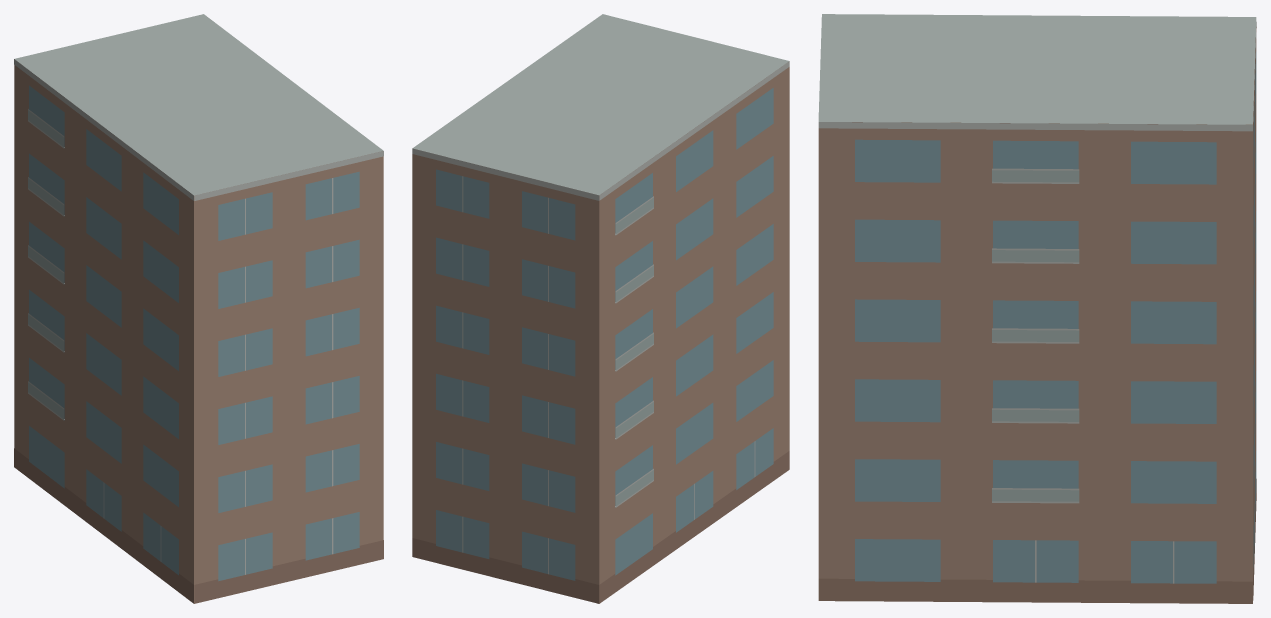
Rendered from survey-upis-32821329.glb.
3 renders of one model, left to right at view 1: azimuth 30°, elevation 25°; view 2: azimuth 150°, elevation 25°; view 3: azimuth 270°, elevation 25°, orthographic. The views are drawn at different scales.
Visible parts, largest first — view 1: survey-upis-32821329.tmp; view 2: survey-upis-32821329.tmp; view 3: survey-upis-32821329.tmp.
Part boxes in pixels (x1,y1,x2,y2): survey-upis-32821329.tmp: (14,14,383,603); survey-upis-32821329.tmp: (412,14,789,603); survey-upis-32821329.tmp: (818,14,1256,603).
Bounding box in the file's own units: 8.88 × 17.9 × 14.84.
